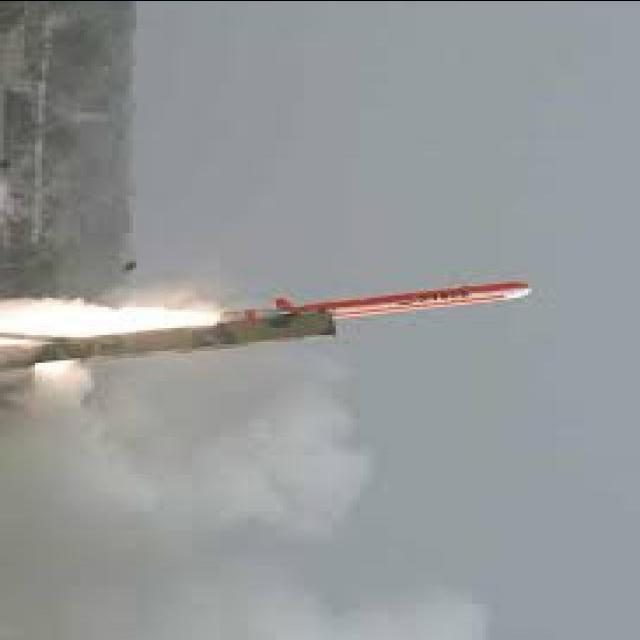Missile: (308, 278, 533, 321)
